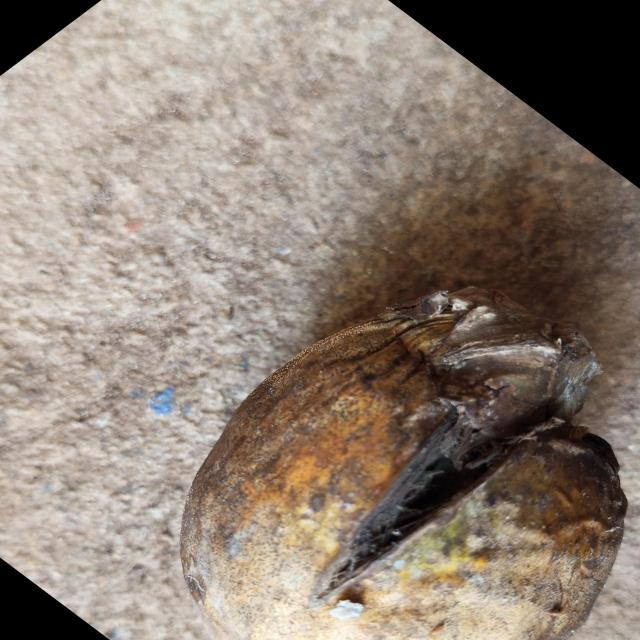damaged: (179, 290, 628, 640)
